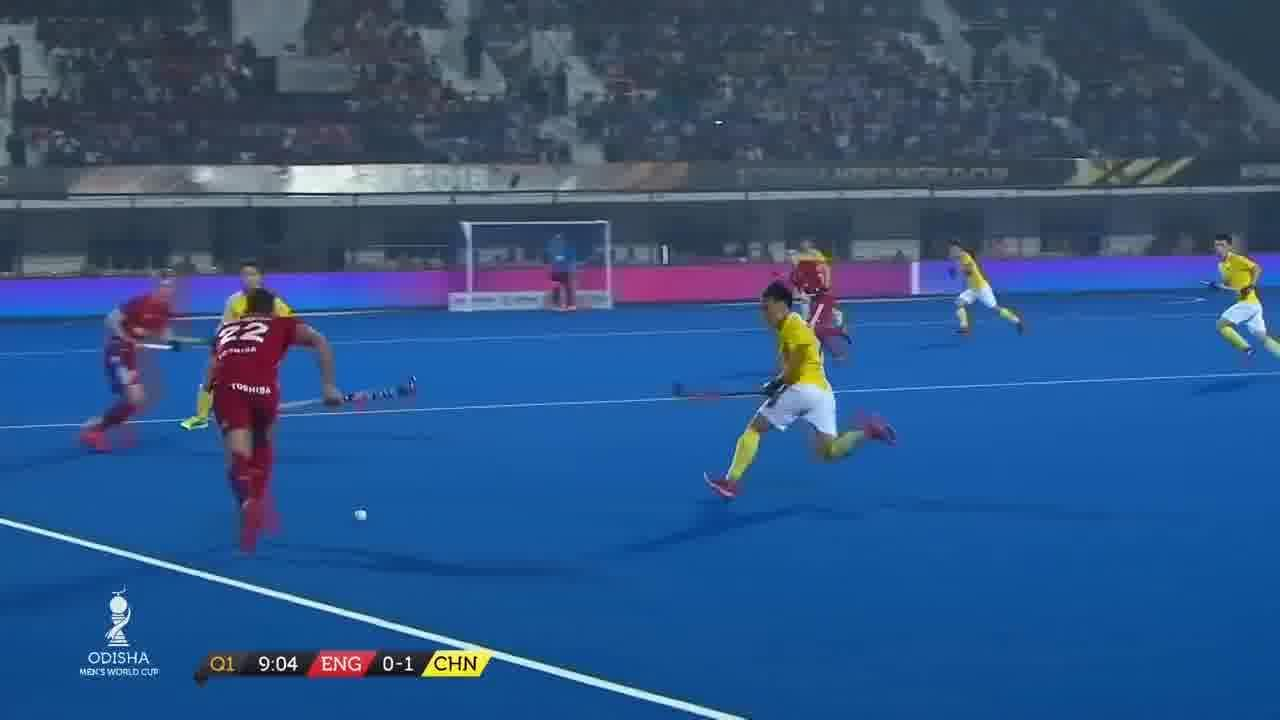ball: (352, 500, 378, 532)
